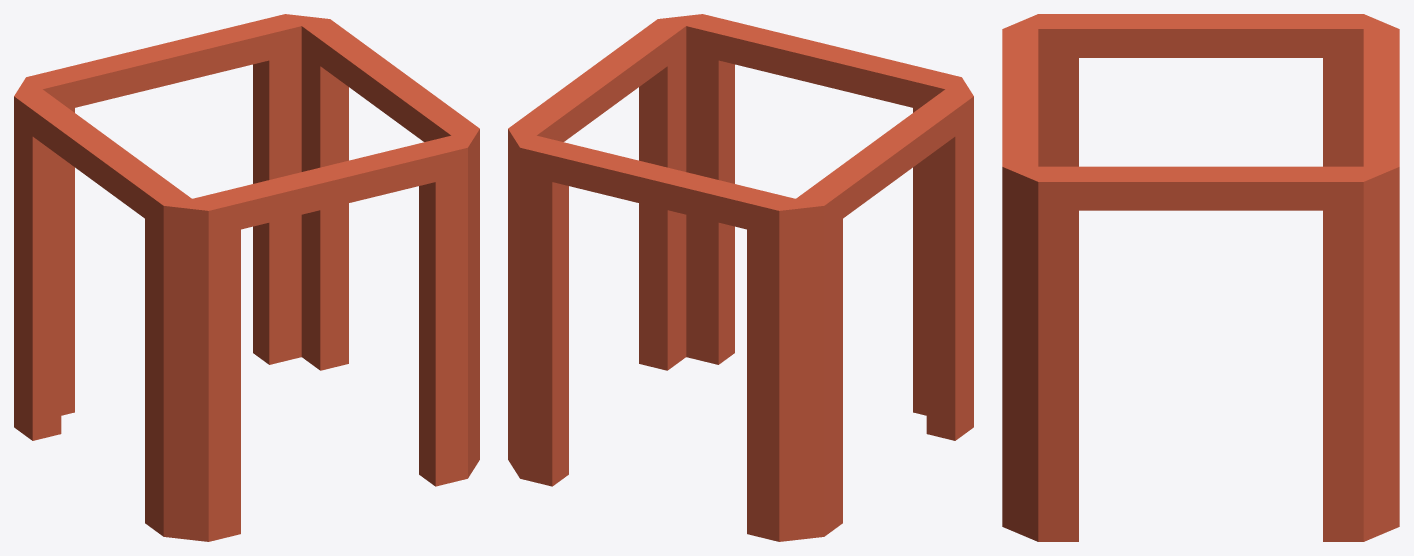
Rendered from metalstructurebottom.glb.
3 renders of one model, left to right at view 1: azimuth 30°, elevation 25°; view 2: azimuth 150°, elevation 25°; view 3: azimuth 270°, elevation 25°, orthographic. The views are drawn at different scales.
Visible parts, largest first — view 1: metalStructureBottom; view 2: metalStructureBottom; view 3: metalStructureBottom.
Part boxes in pixels (x1=…): metalStructureBottom: x1=14, y1=14, x2=479, y2=541; metalStructureBottom: x1=508, y1=14, x2=973, y2=541; metalStructureBottom: x1=1002, y1=14, x2=1399, y2=541.
Size of the model in its own units: 10 by 10 by 10.
